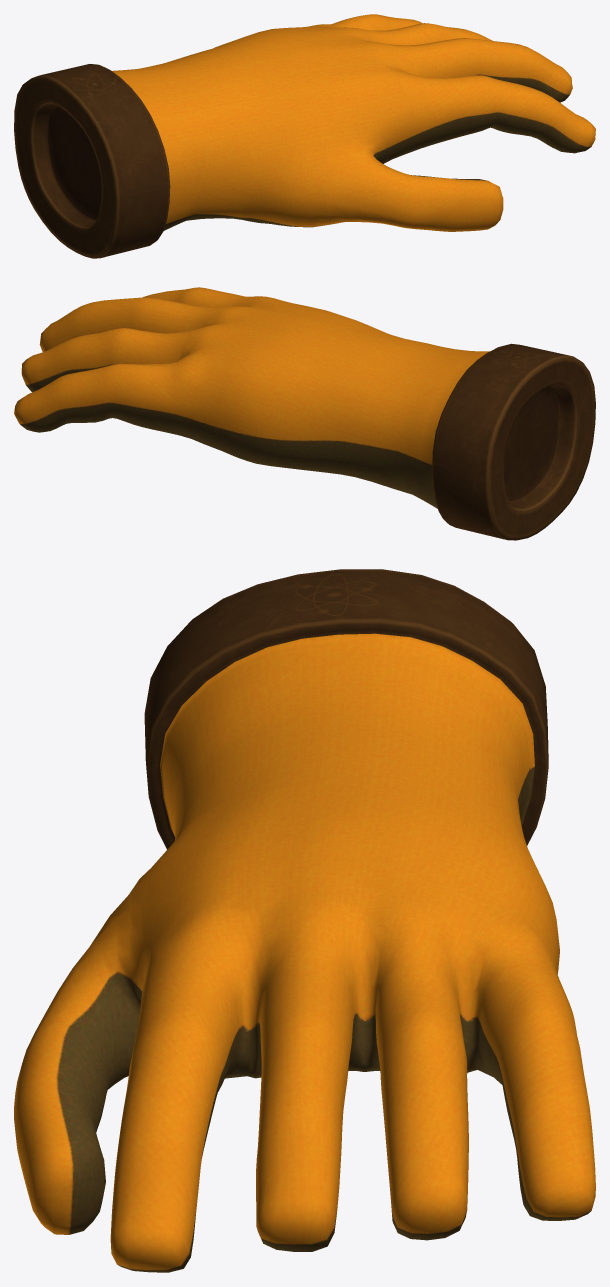
File: leftHand2.glb
The picture shows the model from 3 angles, top to bottom: view 1: azimuth 30°, elevation 25°; view 2: azimuth 150°, elevation 25°; view 3: azimuth 270°, elevation 25°; orthographic projection. The views are drawn at different scales.
Visible parts, largest first — view 1: LabHand_R.003; view 2: LabHand_R.003; view 3: LabHand_R.003.
Boxes of the visible parts, x1,y1,x2,y2 form: LabHand_R.003: (14, 14, 595, 258); LabHand_R.003: (14, 287, 595, 540); LabHand_R.003: (14, 569, 595, 1272).
Size of the model in its own units: 26.53 by 8.97 by 14.04.
1 material, 1 textured.
